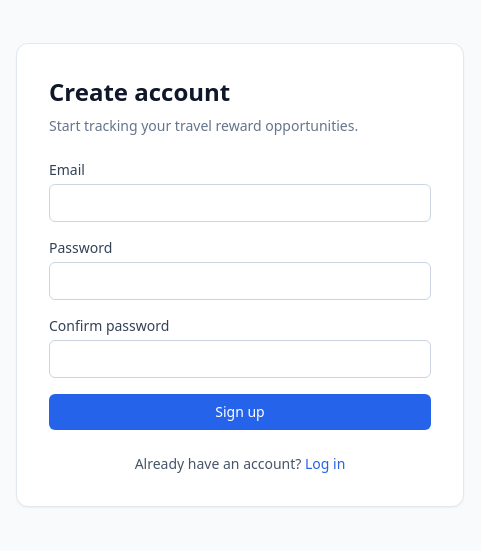
SignUpPage validation › rejects an invalid email
In the field labelled "Email": point(240, 203) [49,184,431,222], type "user@invalid"
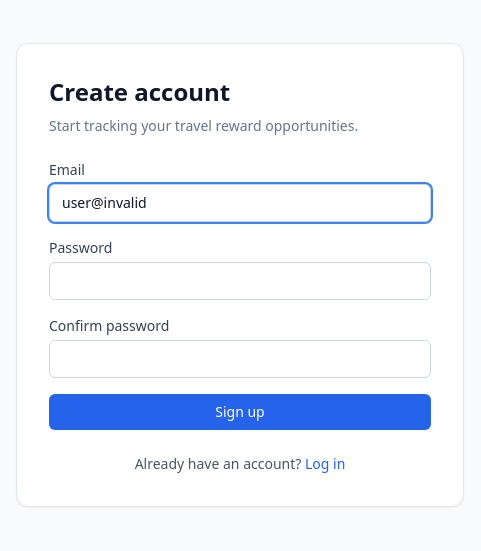
In the password field labelled "Password": point(240, 281) [49,262,431,300], type "password123"
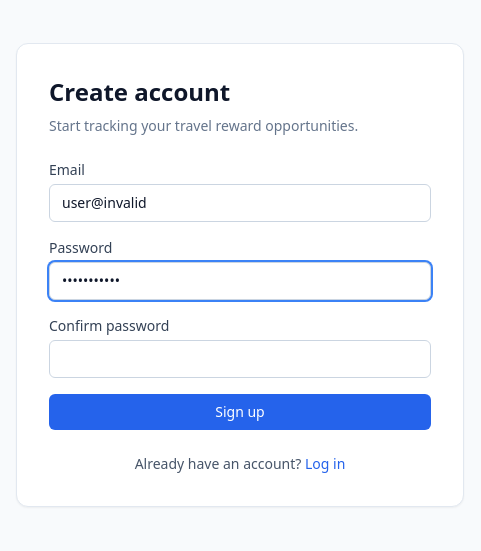
In the password field labelled "Confirm password": point(240, 359) [49,340,431,378], type "password123"
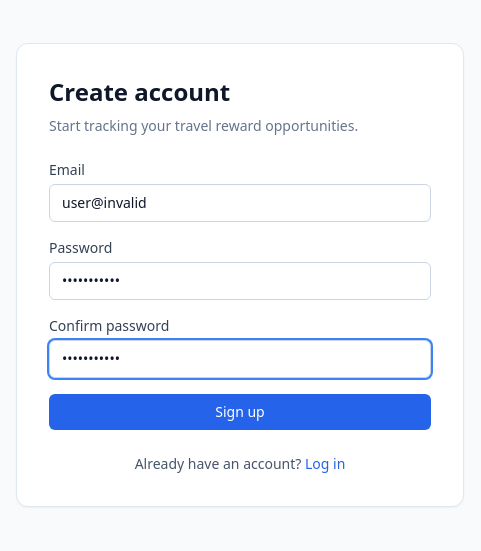
Click the button "Sign up": point(240, 412) [49,394,431,430]
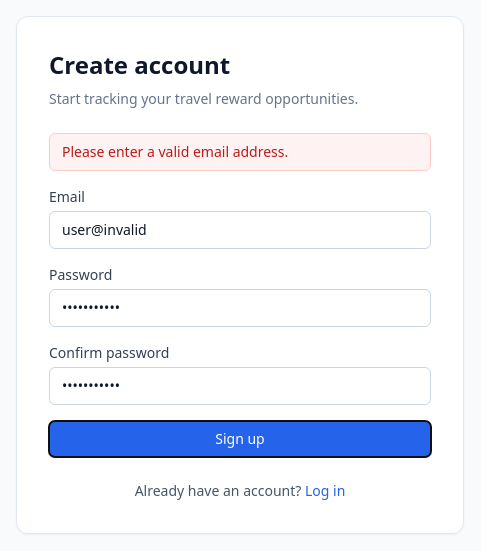
Result: the text "Please enter a valid email address." is shown at [49,133,431,171]
